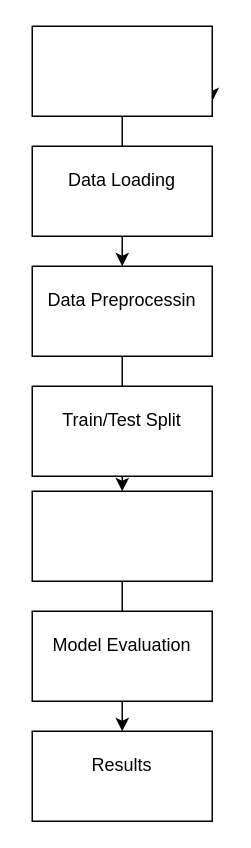
Some shapes in this 251 by 848 pixel diagram are drawn without their labels. The shapes that lost their labels are listed below. From the top down, each one's box as (x1, y1, x2, y2) in pixels, then its label:
(31, 25, 212, 116): Dataset Selection
(31, 490, 212, 581): Model Training
